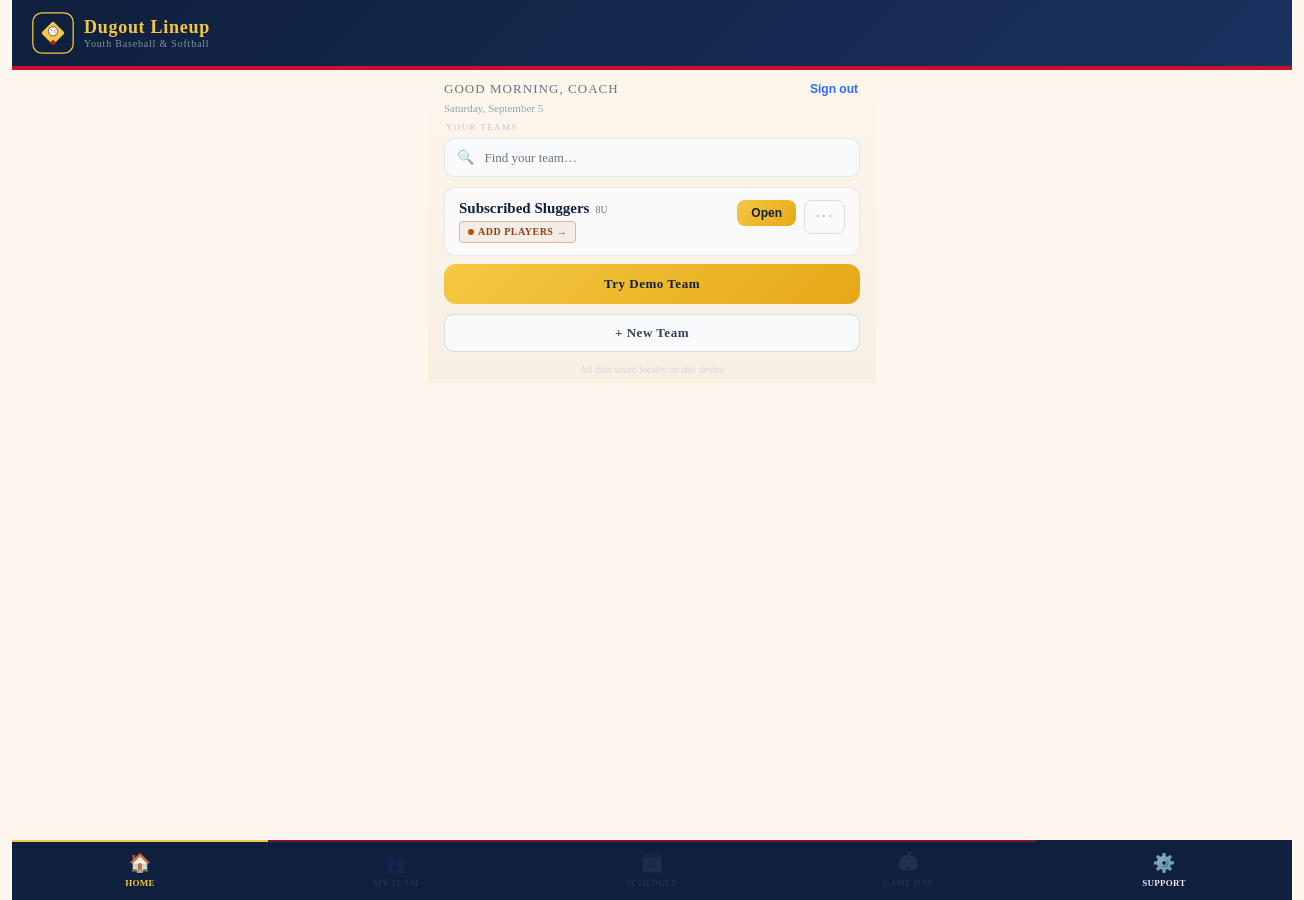
Test case: App Home — membership teams and unified discovery (#740) › shows only subscribed teams and routes the Find your team bar into discovery
The image size is (1304, 900).
Expected: the text "Subscribed Sluggers" is shown, [459, 200, 590, 216]
Click the button "🔍 Find your team…": (531, 157) [444, 138, 860, 177]
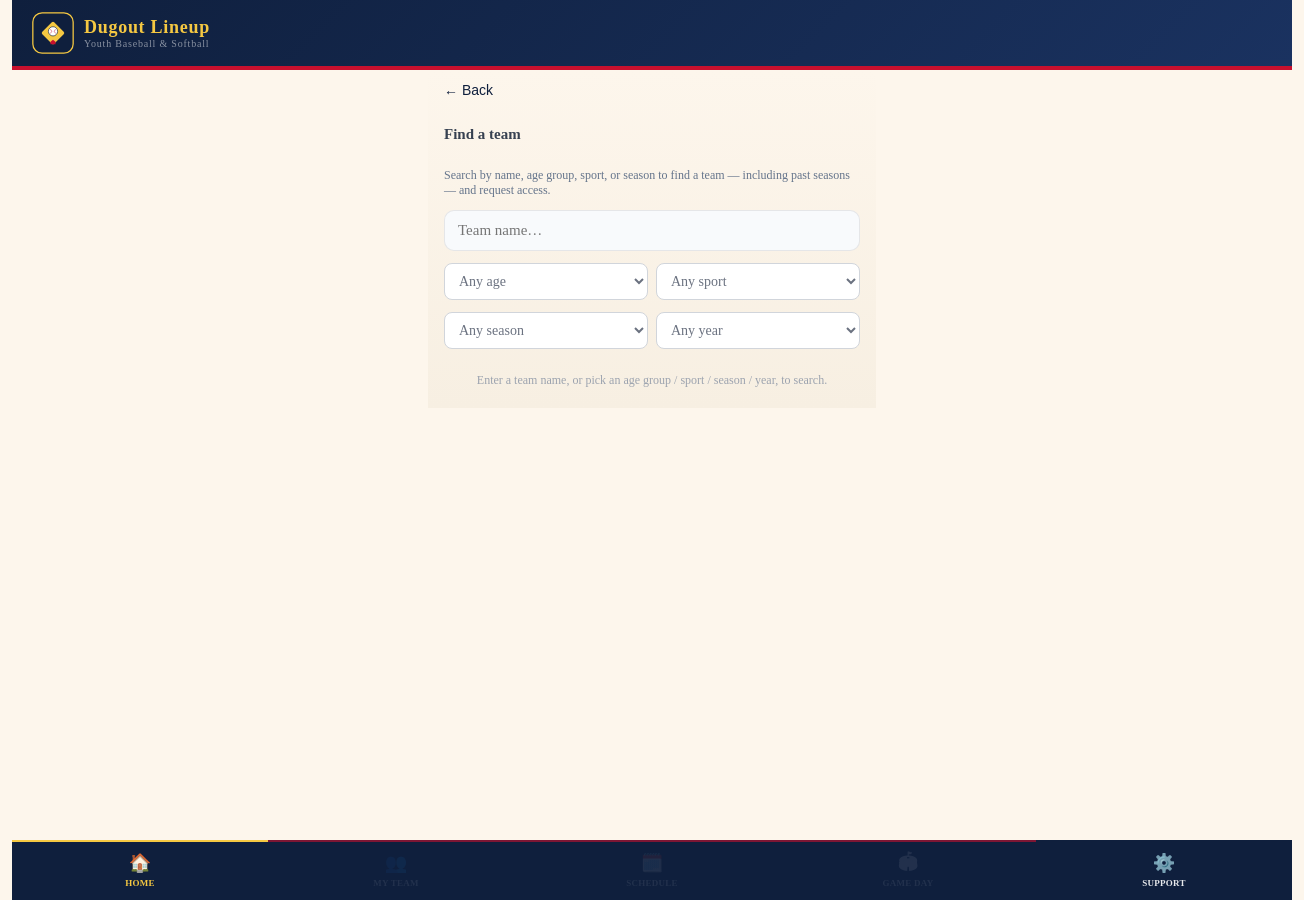
Result: the heading "Find a team" is shown at [444, 126, 521, 142]
